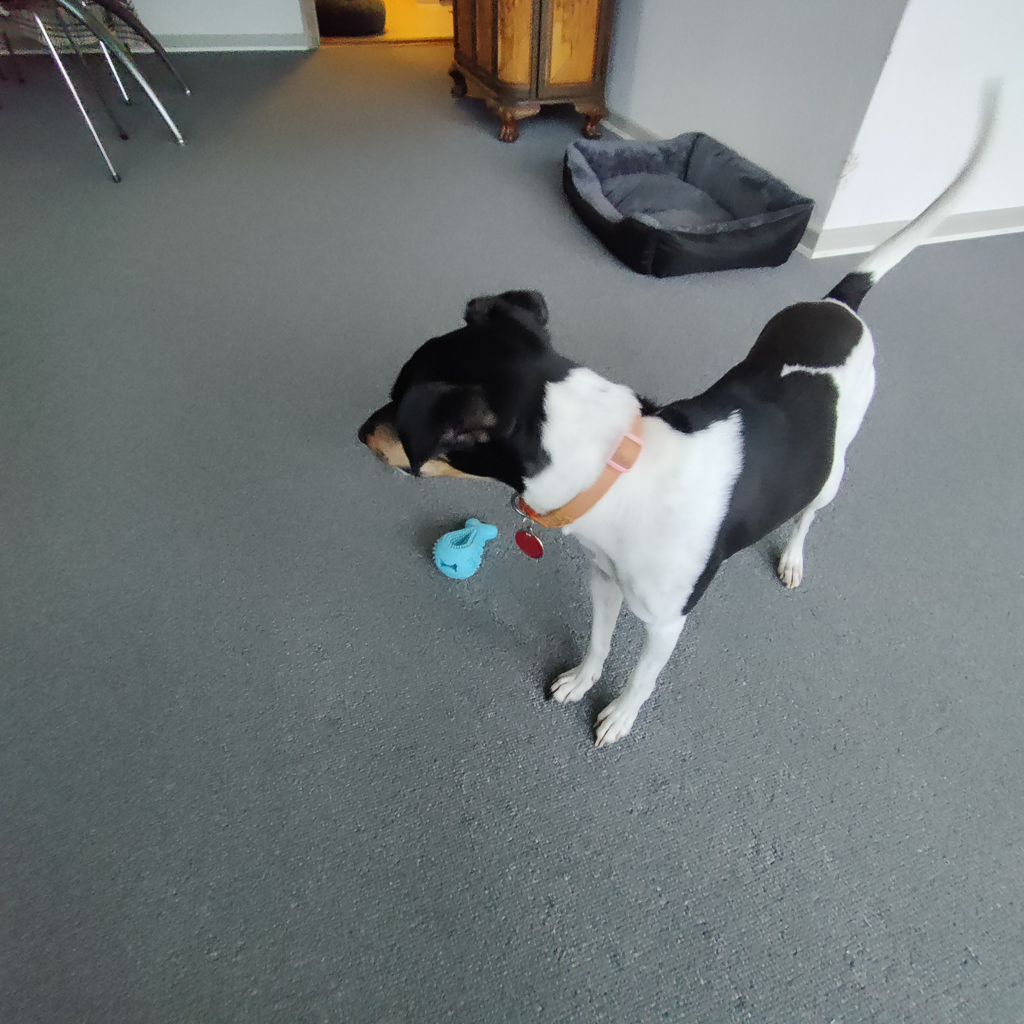Dog: (345, 56, 1013, 779)
